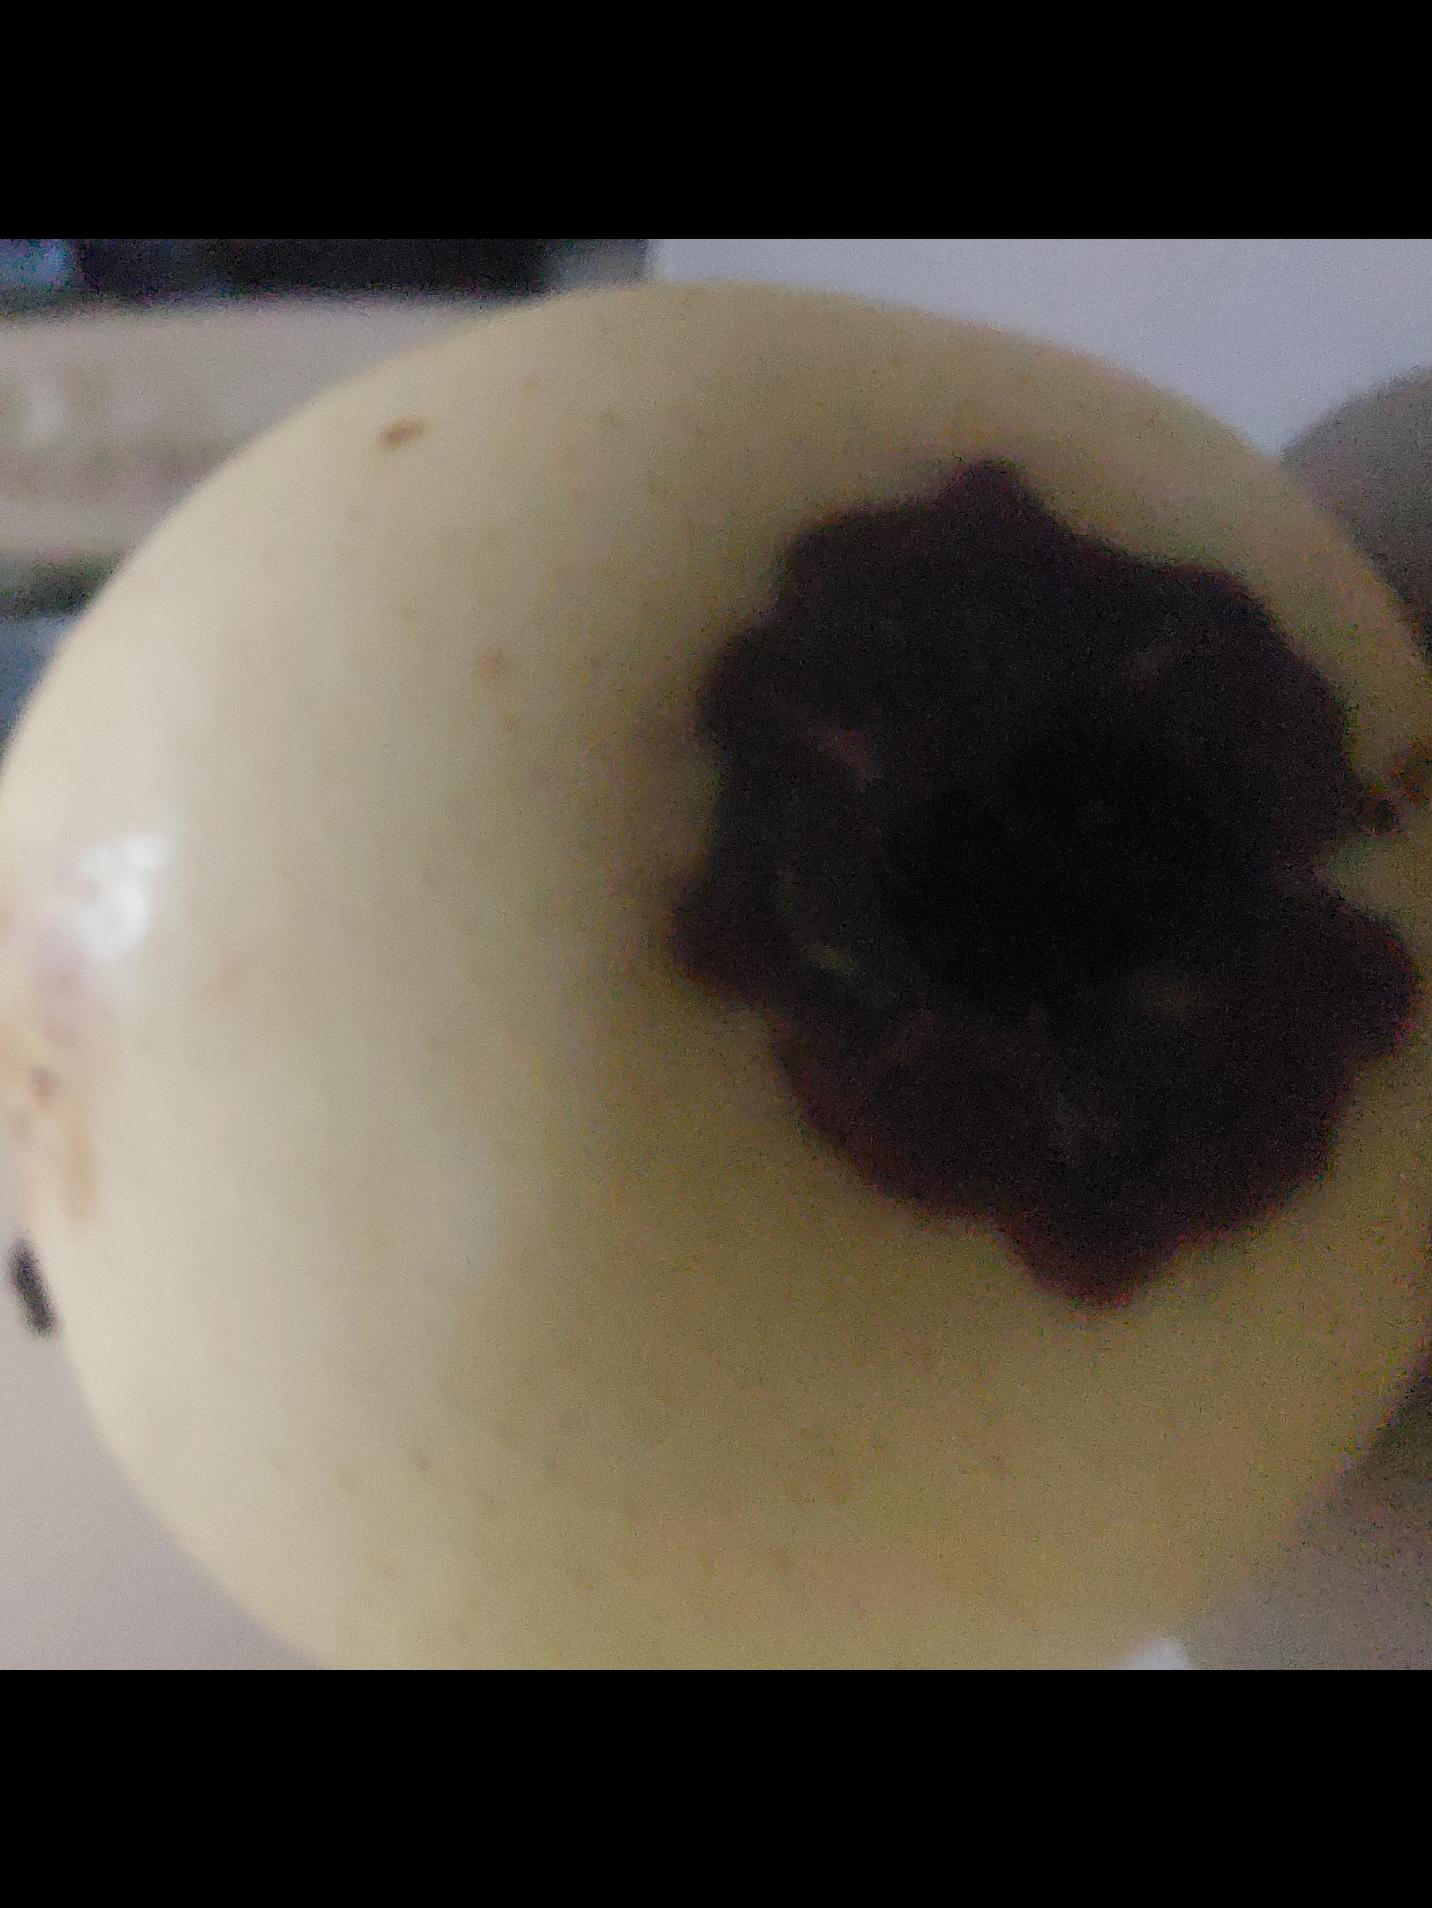Bad Pear: (0, 478, 1432, 1670)
